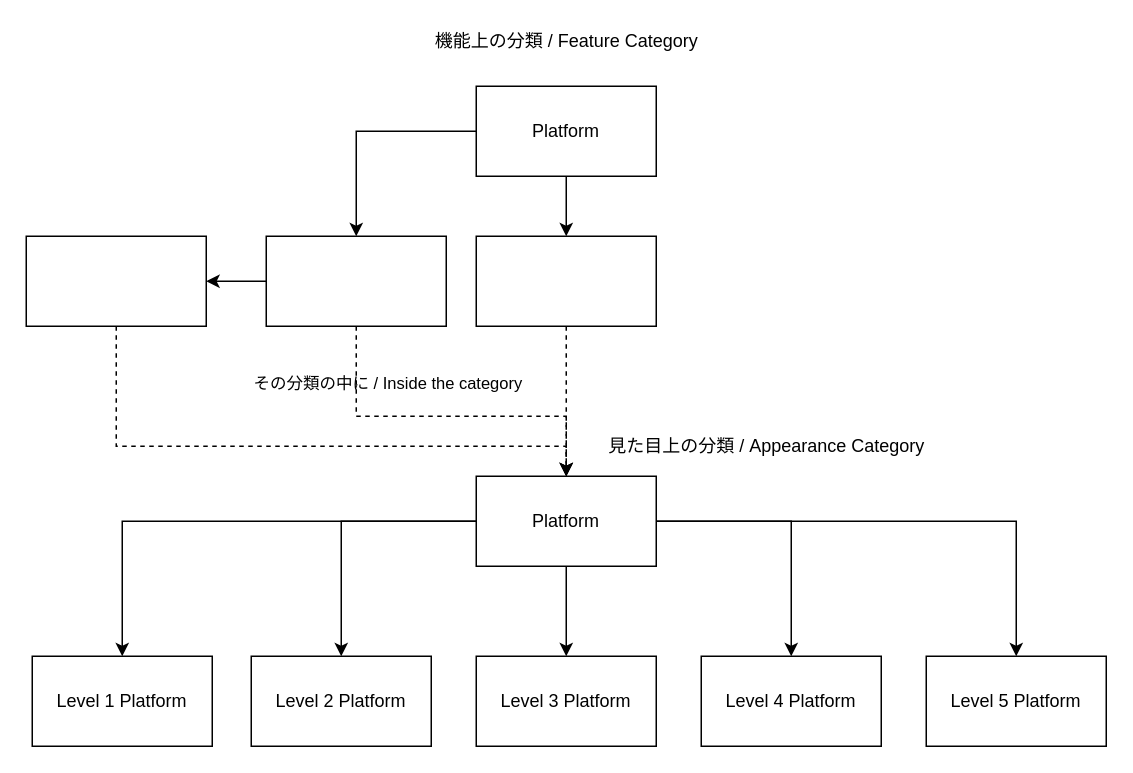
Image size: 1133x773. Some labels were removed from this diagram. Here are the shapes that lost their labels. From the top down, the centre of each, then its label:
the point at 115,280: Start Platform
the point at 355,280: Static Platform
the point at 565,280: Dynamic Platform
